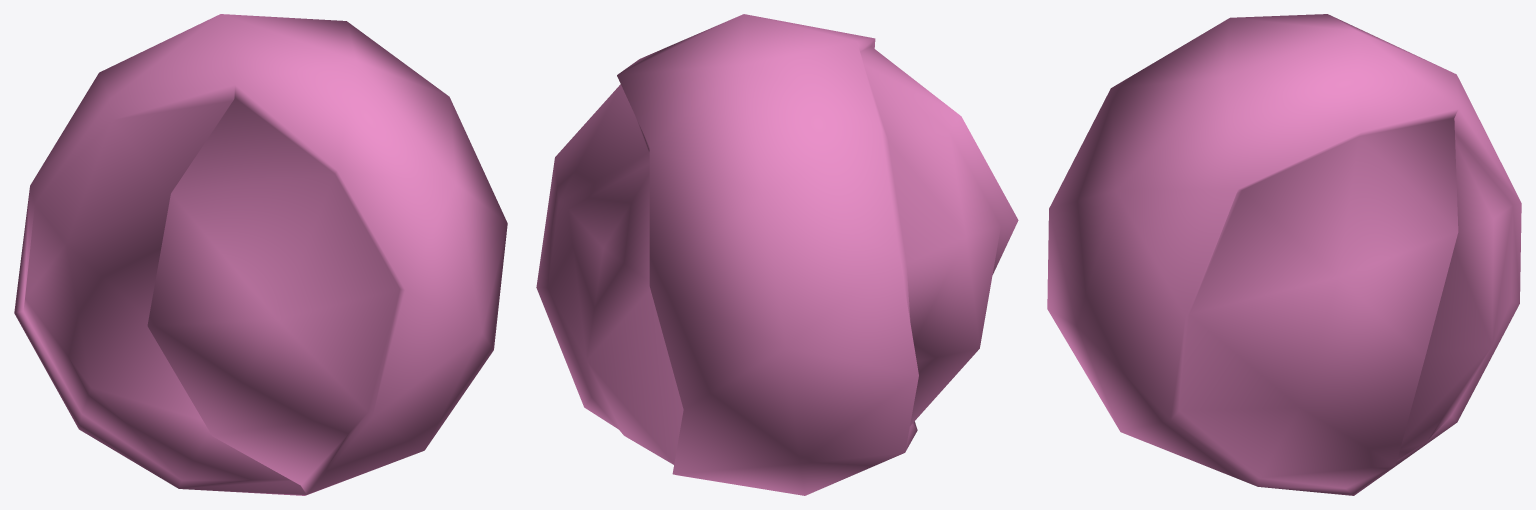
File: WoolBall_low.fbx
3 renders of one model, left to right at view 1: azimuth 30°, elevation 25°; view 2: azimuth 150°, elevation 25°; view 3: azimuth 270°, elevation 25°, orthographic. The views are drawn at different scales.
Visible parts, largest first — view 1: Icosphere; view 2: Icosphere; view 3: Icosphere.
Boxes of the visible parts, <box> form: Icosphere: <box>14,14,507,495</box>; Icosphere: <box>536,14,1018,495</box>; Icosphere: <box>1047,14,1521,495</box>.
Bounding box in the file's own units: 171 × 179 × 178.
